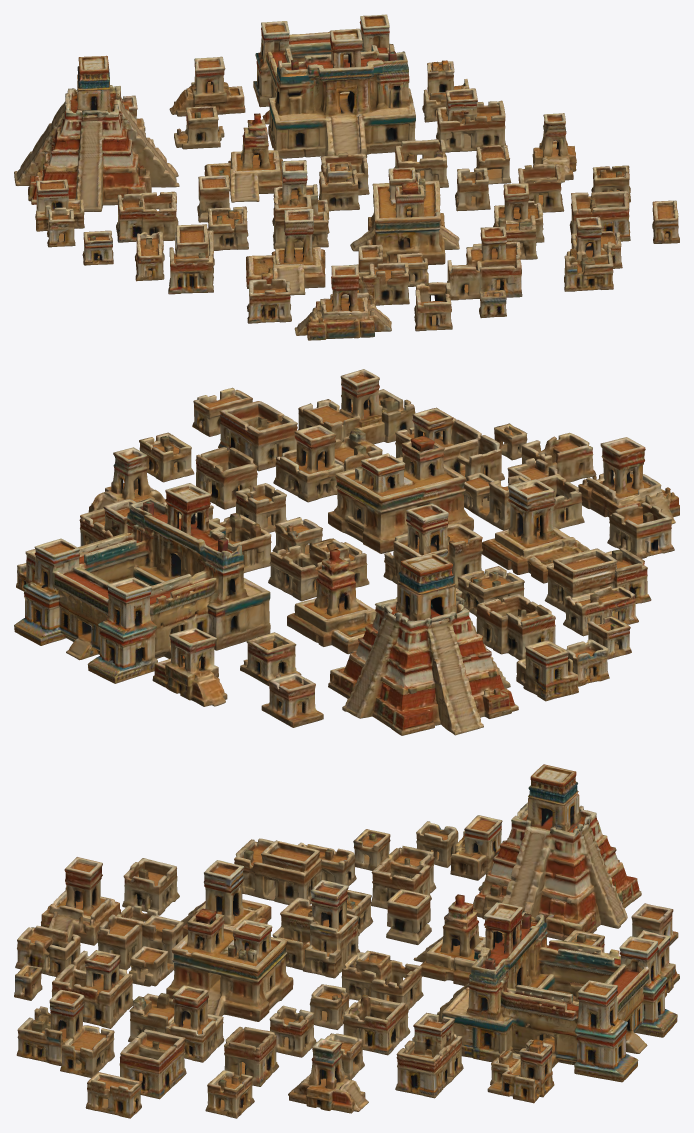
The model's file is Enlightenment City (Mesoamerican).fbx.
3 views of the same model, one above another, from view 1: azimuth 30°, elevation 25°; view 2: azimuth 150°, elevation 25°; view 3: azimuth 270°, elevation 25° (orthographic). The views are drawn at different scales.
Visible parts, largest first — view 1: tripo_node_3e4d28a5; view 2: tripo_node_3e4d28a5; view 3: tripo_node_3e4d28a5.
Part boxes in pixels (bbox=[...]): tripo_node_3e4d28a5: bbox=[14, 14, 679, 340]; tripo_node_3e4d28a5: bbox=[14, 369, 679, 735]; tripo_node_3e4d28a5: bbox=[14, 764, 679, 1118].
Size of the model in its own units: 0.9579 by 0.2177 by 1.
